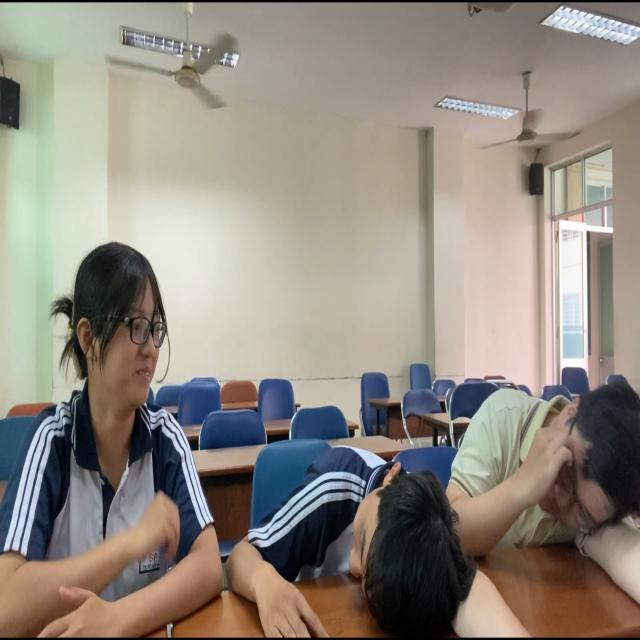sleep: (239, 436, 467, 640), (453, 378, 640, 593)
